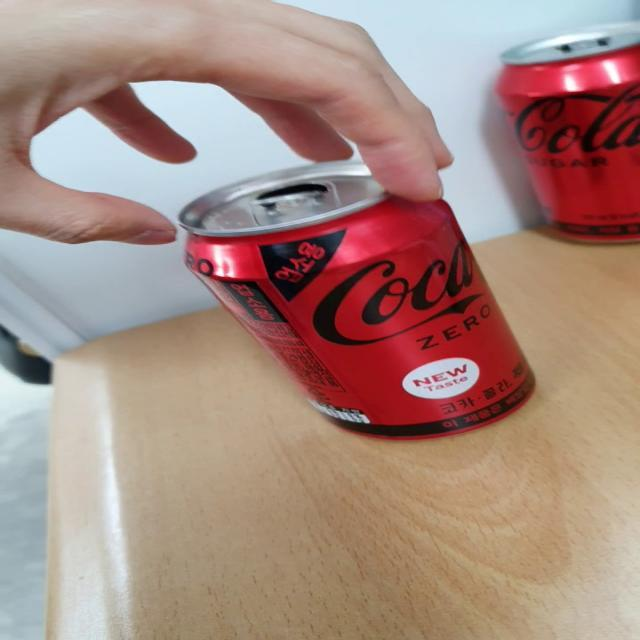coca-cola: (164, 148, 566, 464), (491, 18, 640, 256)
